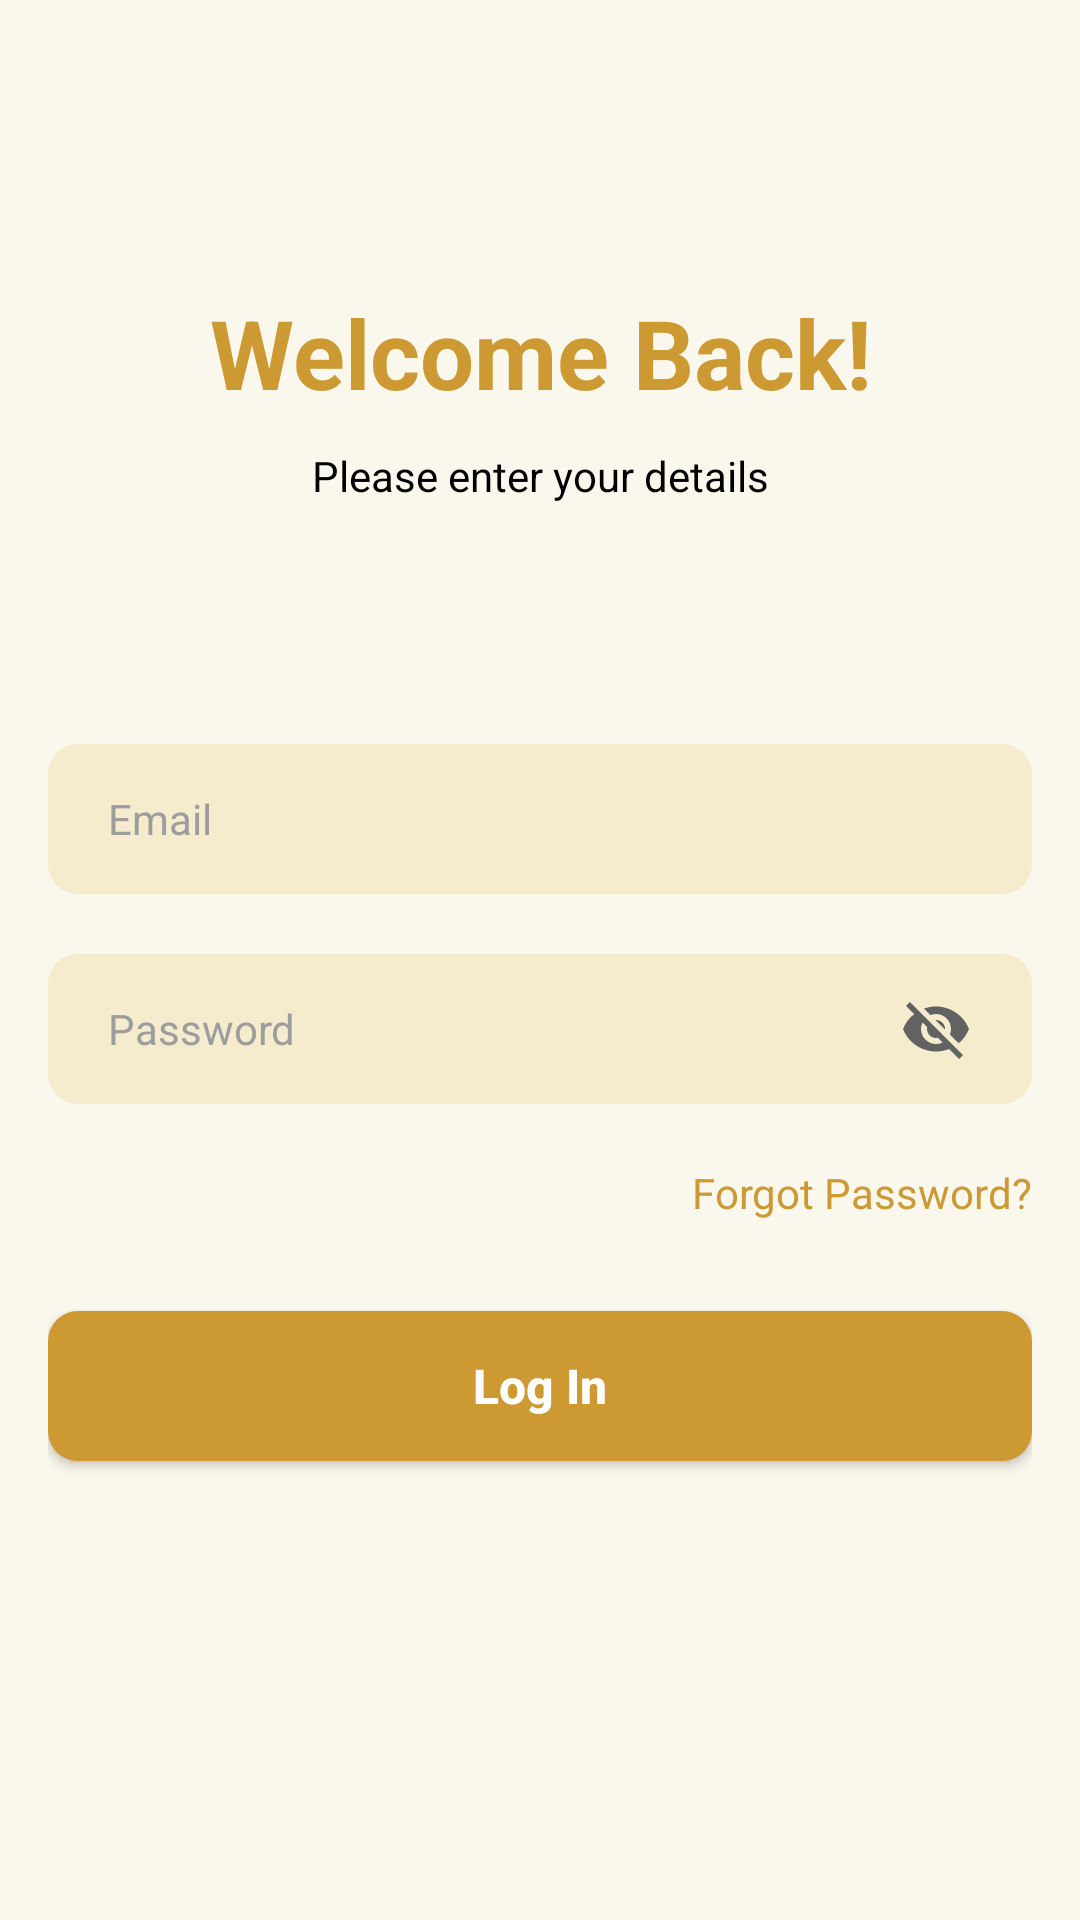

Screen size 1080px×1920px. Icon name, then its box in pixels as [x1,y1,x2,y2]:
visibility off: [903,1002,969,1059]
